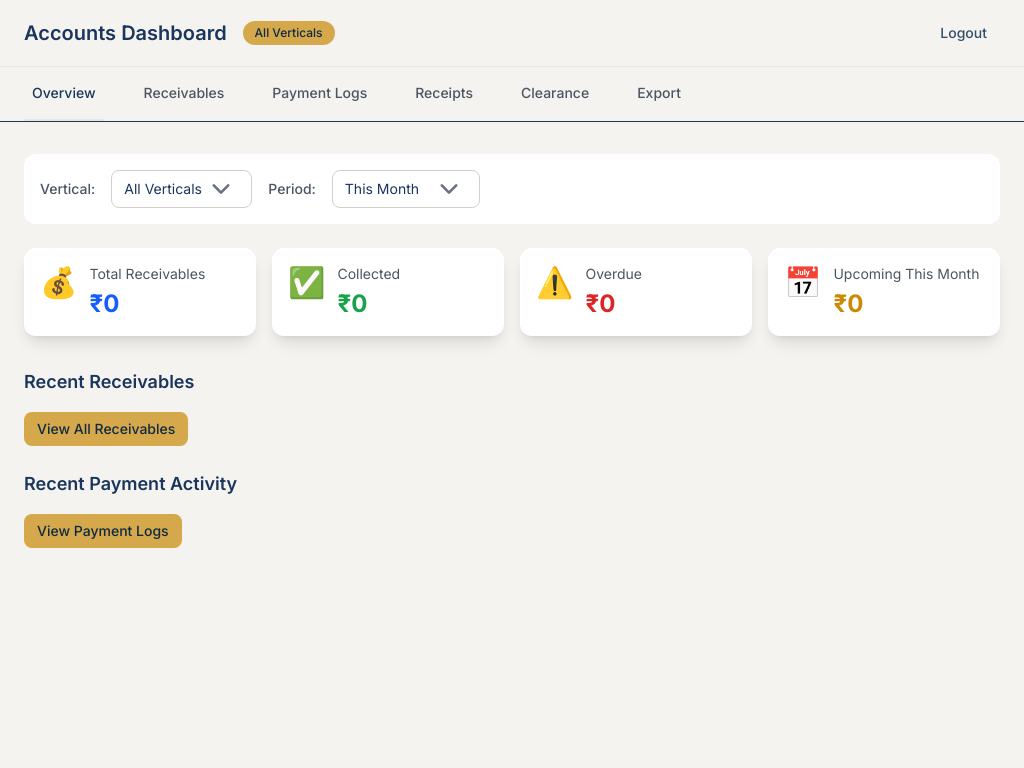
Test: Task 16: Accounts / Accounting Team Dashboards › 16.1 - Tab Navigation › should switch to Receivables tab
Click the button "Receivables": (184, 94) [136,67,232,121]
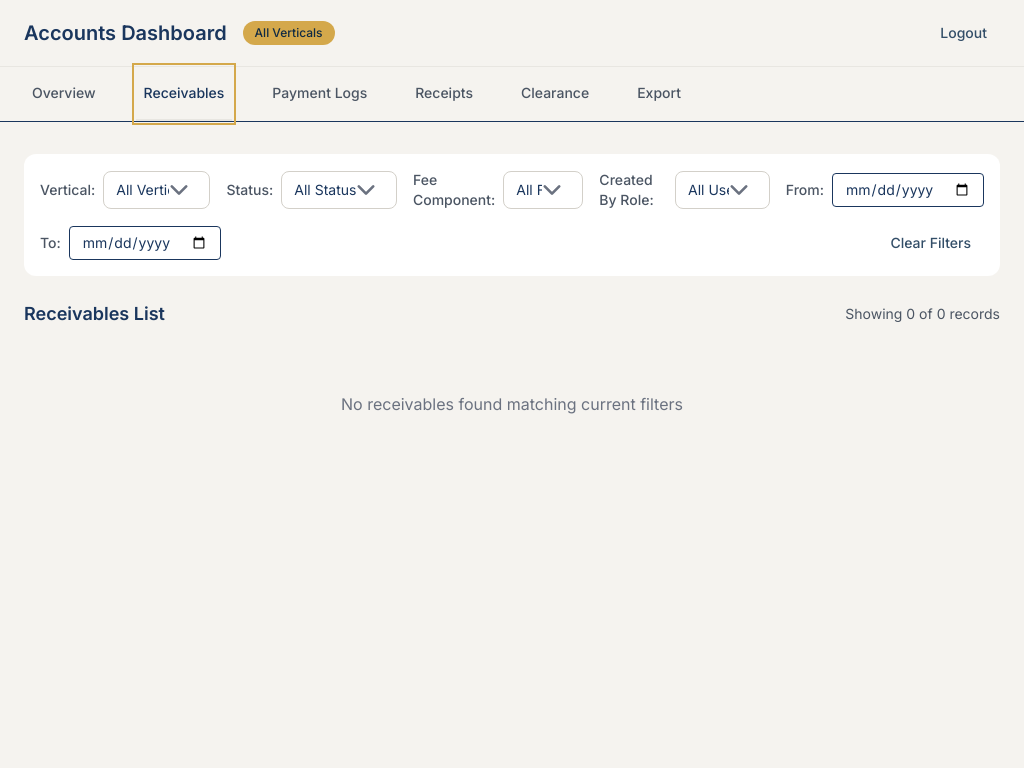
Now the heading "Receivables List" is shown, box [24,300,165,328]
